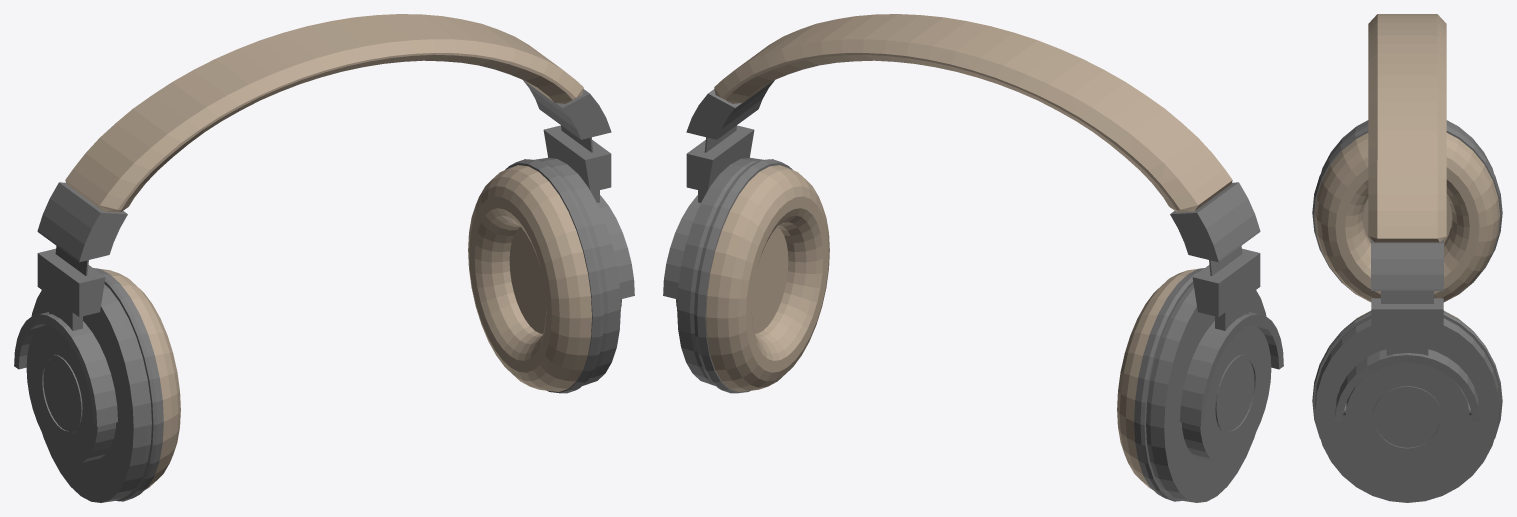
File: headphones.glb
The picture shows the model from 3 angles, left to right: view 1: azimuth 30°, elevation 25°; view 2: azimuth 150°, elevation 25°; view 3: azimuth 270°, elevation 25°; orthographic projection. The views are drawn at different scales.
Parts seen in each view (by area): view 1: Cube, Cube.001; view 2: Cube, Cube.001; view 3: Cube.001, Cube.
Part boxes in pixels (x1,y1,x2,y2): Cube: [65, 14, 591, 490]; Cube.001: [14, 80, 634, 502]; Cube: [706, 14, 1232, 490]; Cube.001: [663, 80, 1283, 502]; Cube.001: [1312, 120, 1502, 502]; Cube: [1315, 14, 1499, 329].
Bounding box in the file's own units: 0.8671 × 0.6192 × 0.3055.
